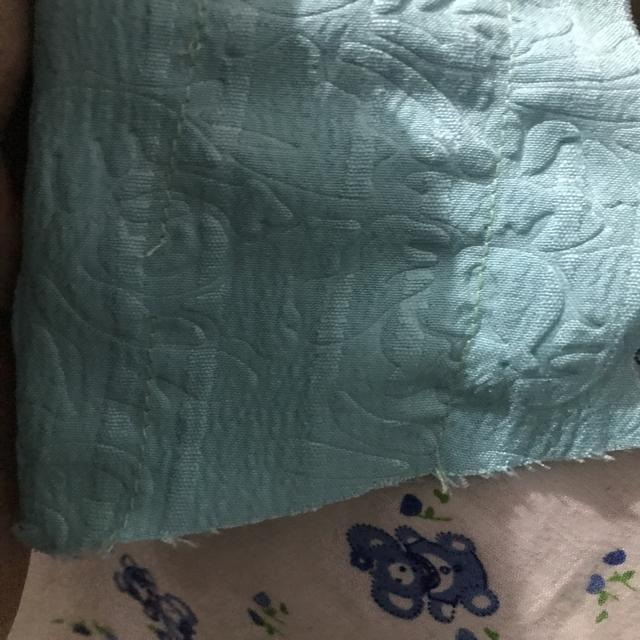broken: (130, 211, 196, 339)
good: (158, 99, 193, 186)
